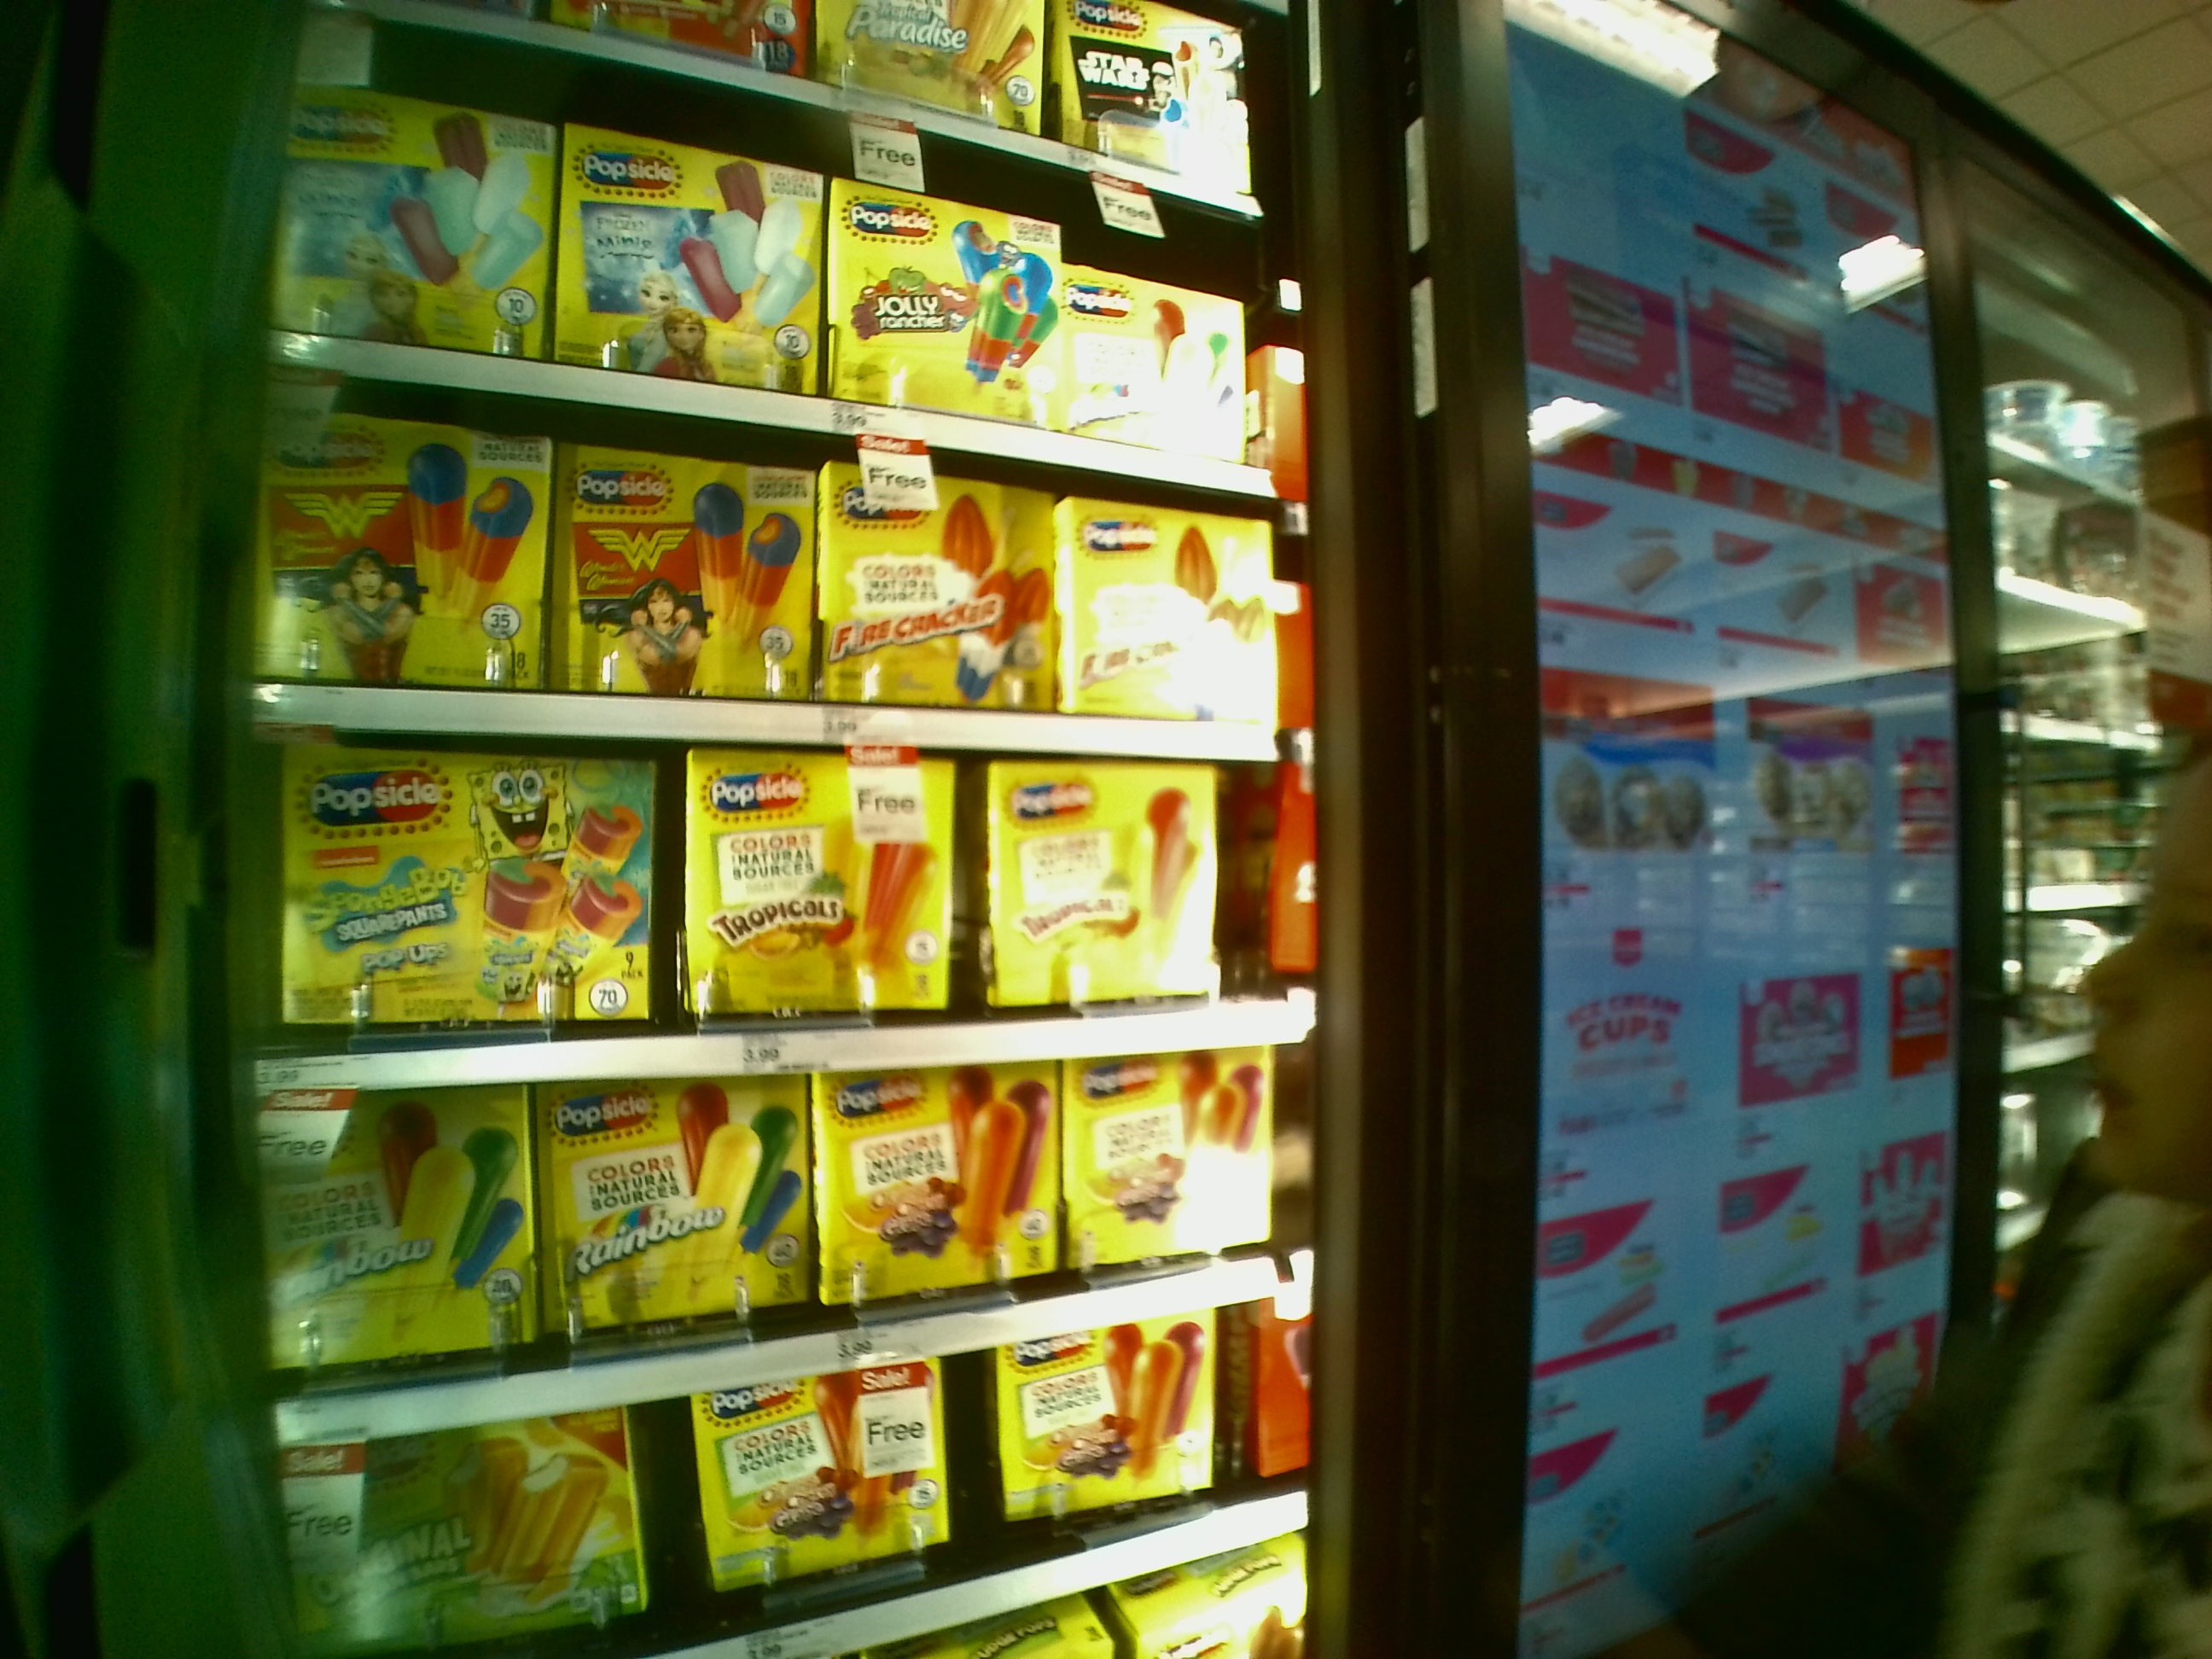shelf: (280, 1049, 1312, 1351), (263, 460, 1278, 753), (258, 728, 1284, 1018), (298, 1345, 1318, 1633)
